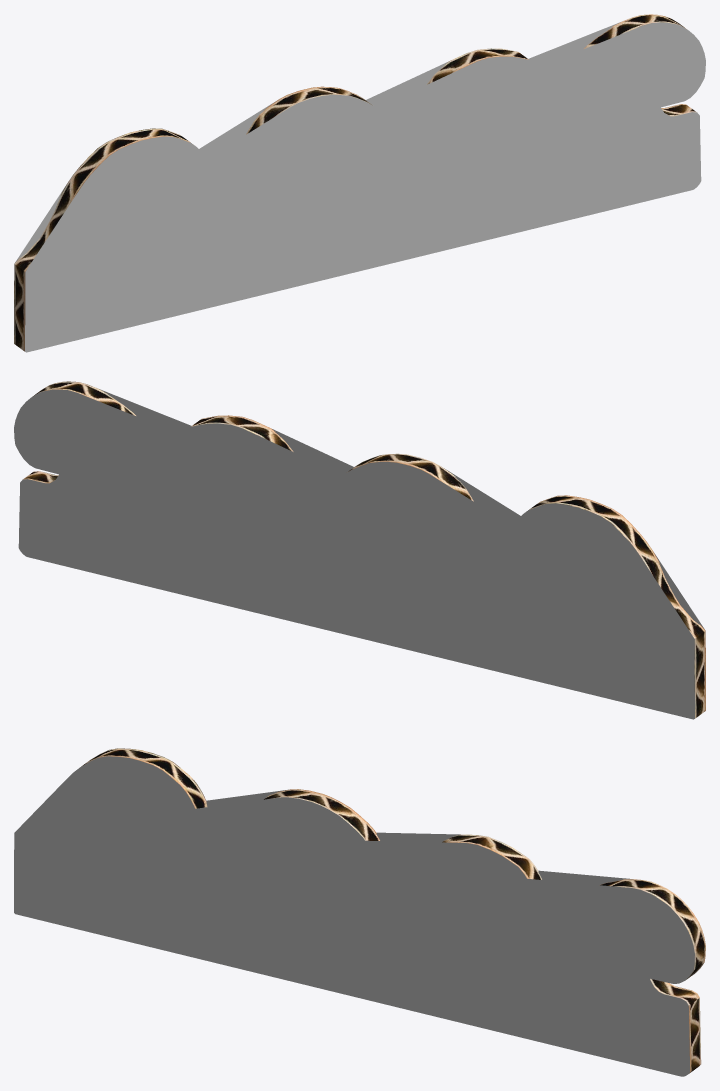
The model's file is wave.fbx.
3 renders of one model, top to bottom at view 1: azimuth 30°, elevation 25°; view 2: azimuth 150°, elevation 25°; view 3: azimuth 330°, elevation 25°, orthographic.
Visible parts, largest first — view 1: wave; view 2: wave; view 3: wave.
Boxes of the visible parts, bbox=[...] form: wave: bbox=[14, 14, 705, 352]; wave: bbox=[14, 381, 705, 719]; wave: bbox=[14, 748, 705, 1076].
Size of the model in its own units: 496 by 128 by 14.
